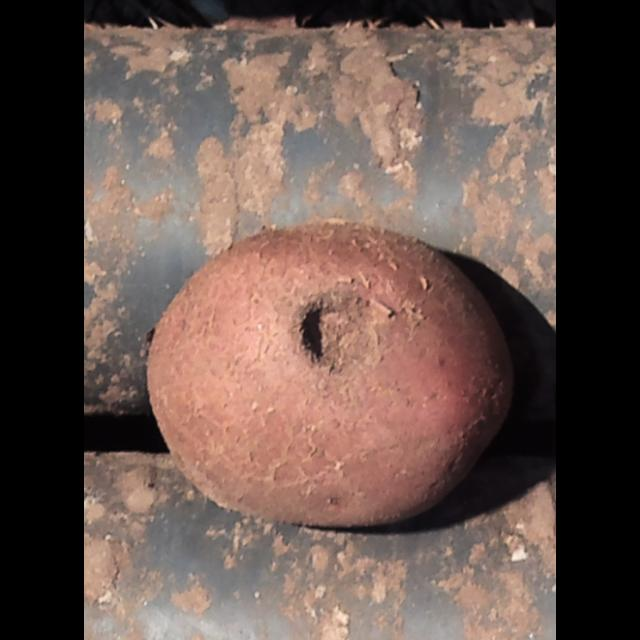Diseased-fungal potato: (132, 212, 526, 534)
